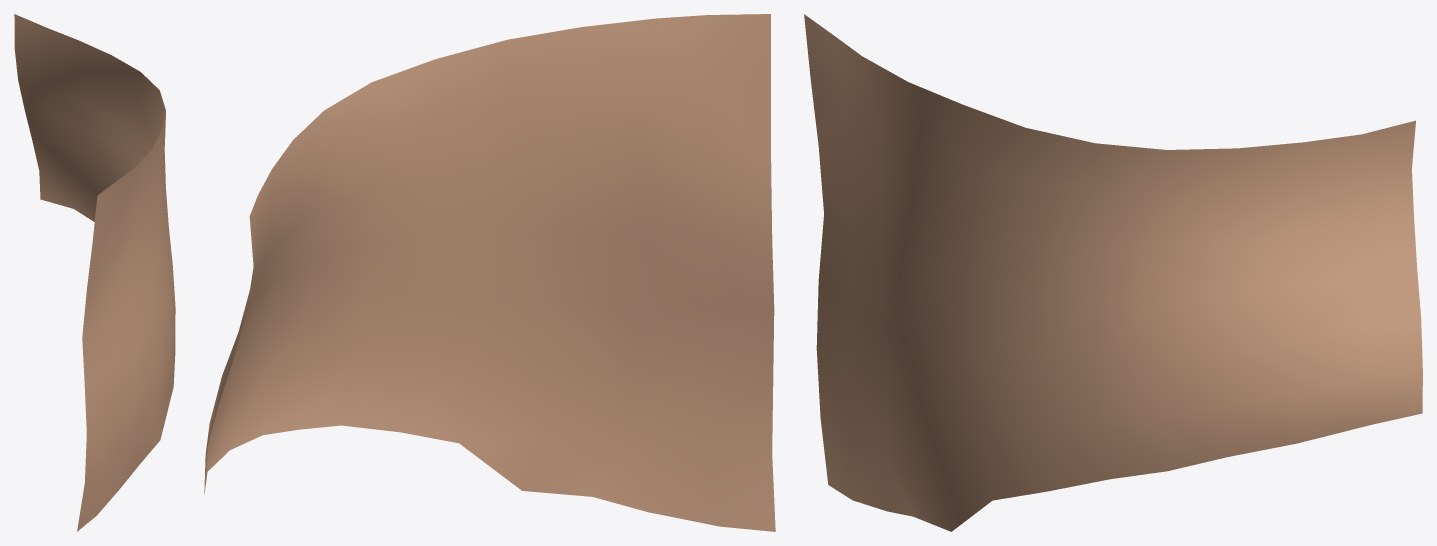
The model's file is lateral-region-of-abdomen-l.glb.
3 renders of one model, left to right at view 1: azimuth 30°, elevation 25°; view 2: azimuth 150°, elevation 25°; view 3: azimuth 270°, elevation 25°, orthographic. The views are drawn at different scales.
Visible parts, largest first — view 1: Lateral region of abdomen.l; view 2: Lateral region of abdomen.l; view 3: Lateral region of abdomen.l.
Boxes of the visible parts, x1,y1,x2,y2 form: Lateral region of abdomen.l: (14,14,175,531); Lateral region of abdomen.l: (204,14,775,531); Lateral region of abdomen.l: (804,14,1422,531).
Size of the model in its own units: 0.0826 by 0.1311 by 0.1535.
